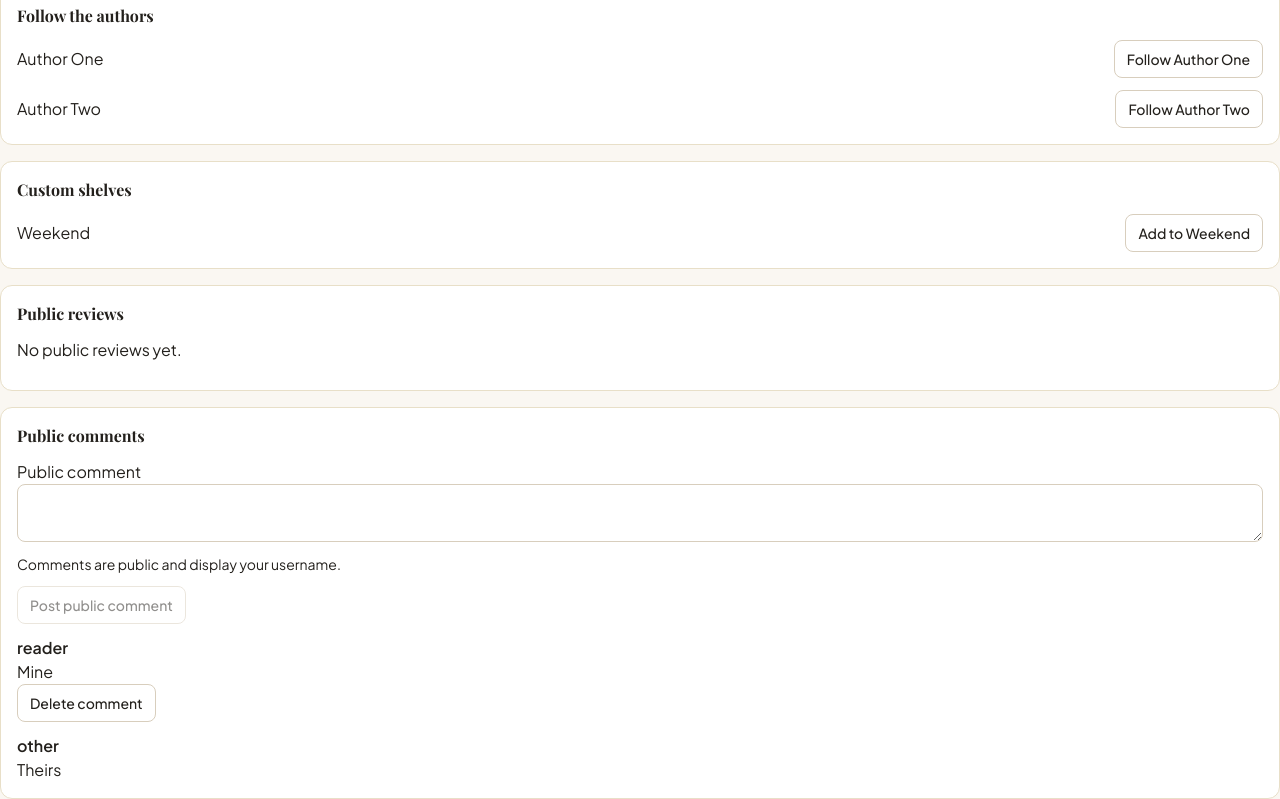
reader tools › only offers deletion for the signed-in reader’s comments
The width and height of the screenshot is (1280, 799).
(page scrolled)
Click the button with aria-label "Delete comment 1" at (86, 703), box [17,684,156,722]
(page scrolled)
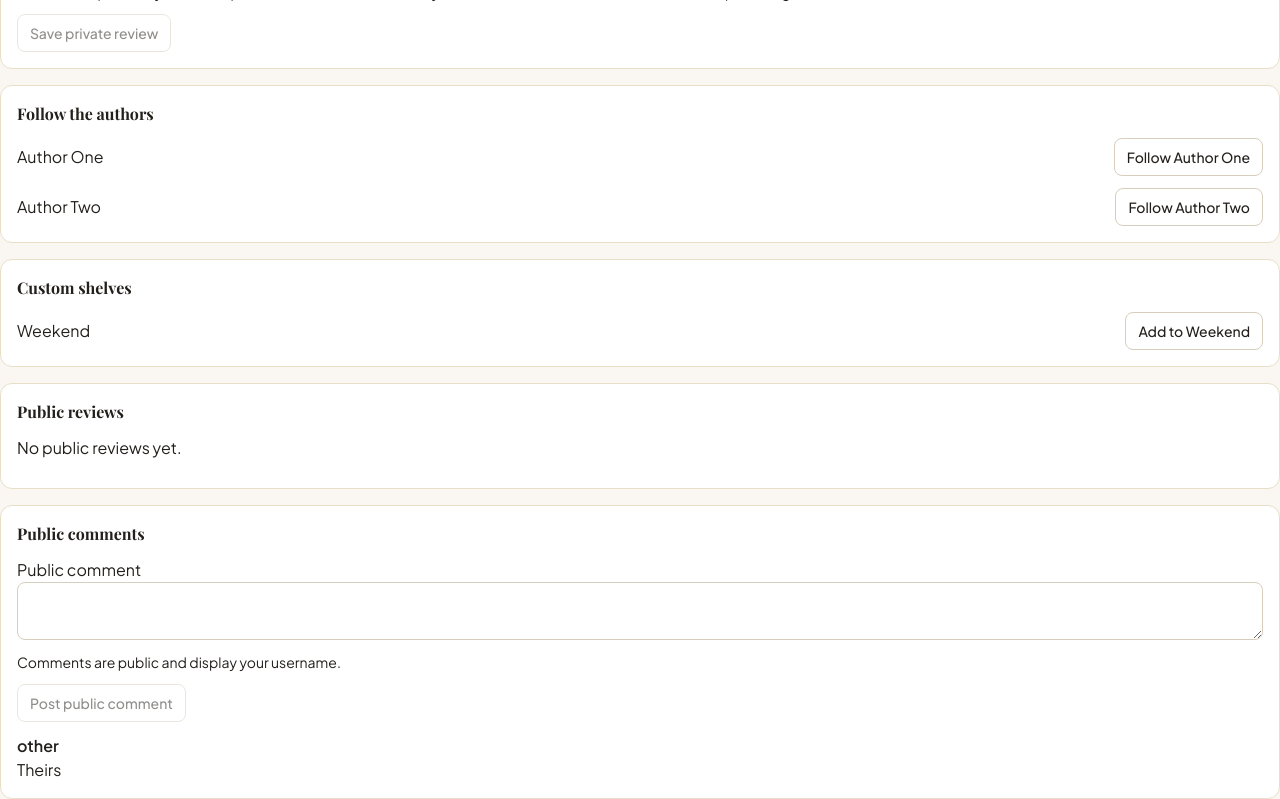
Now the text "Mine" is gone
Type "A public thought" into the text box labelled "Public comment" at (640, 611), box [17,582,1263,640]
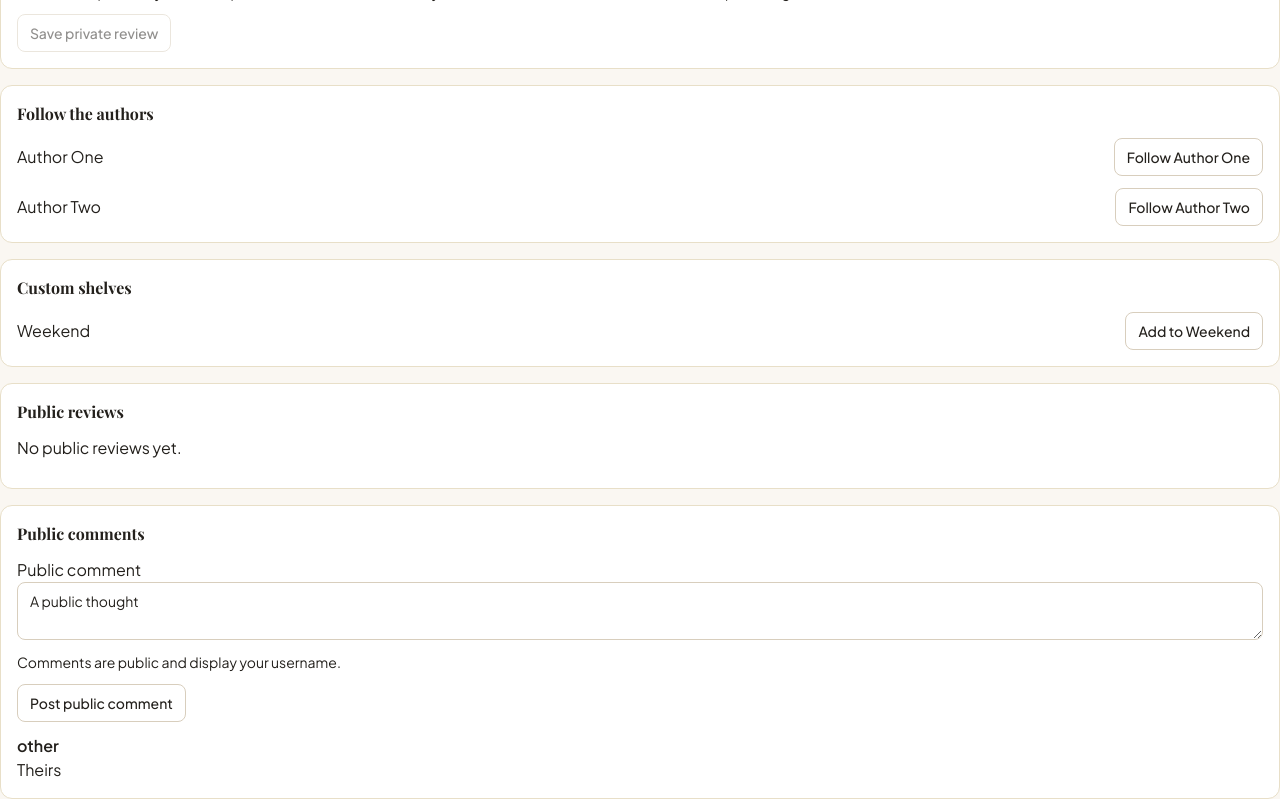
Click the button "Post public comment" at (101, 703), box [17,684,186,722]
(page scrolled)
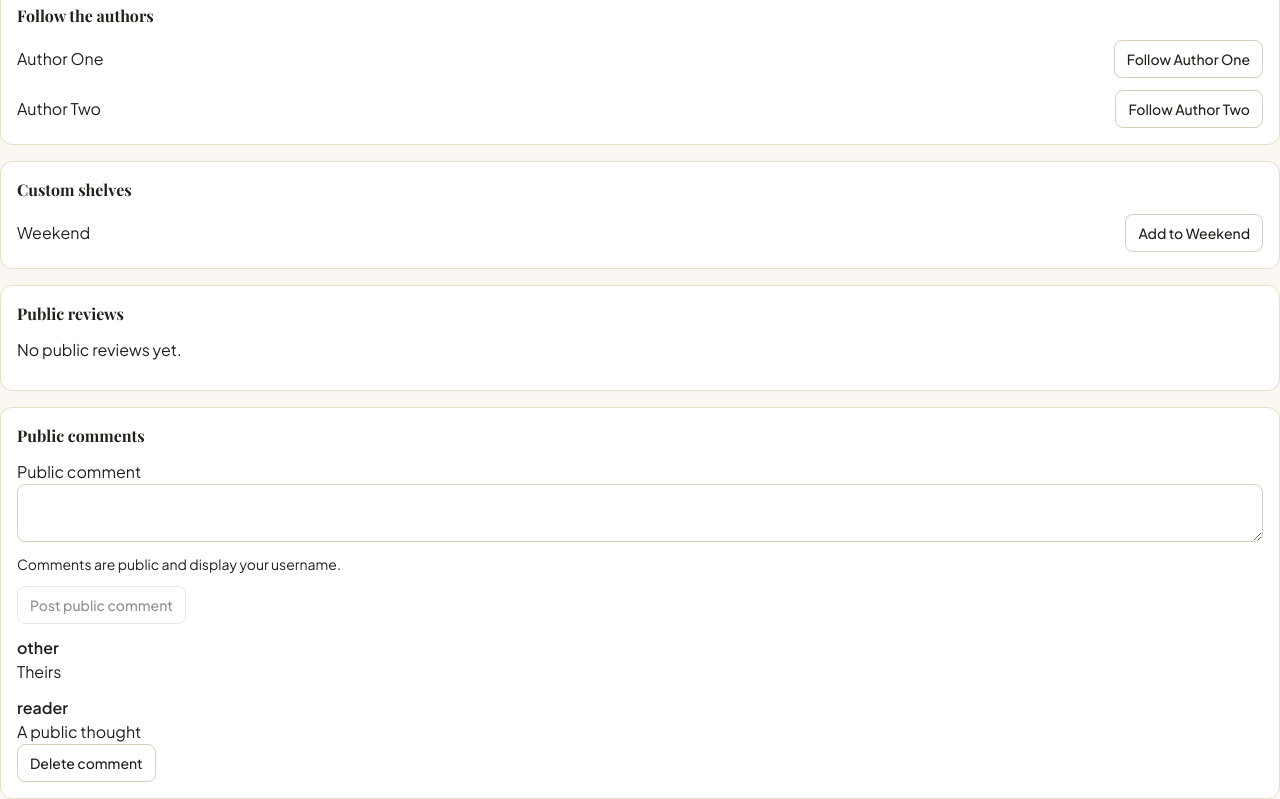
Now the text "A public thought" is shown, box [17,721,141,742]
